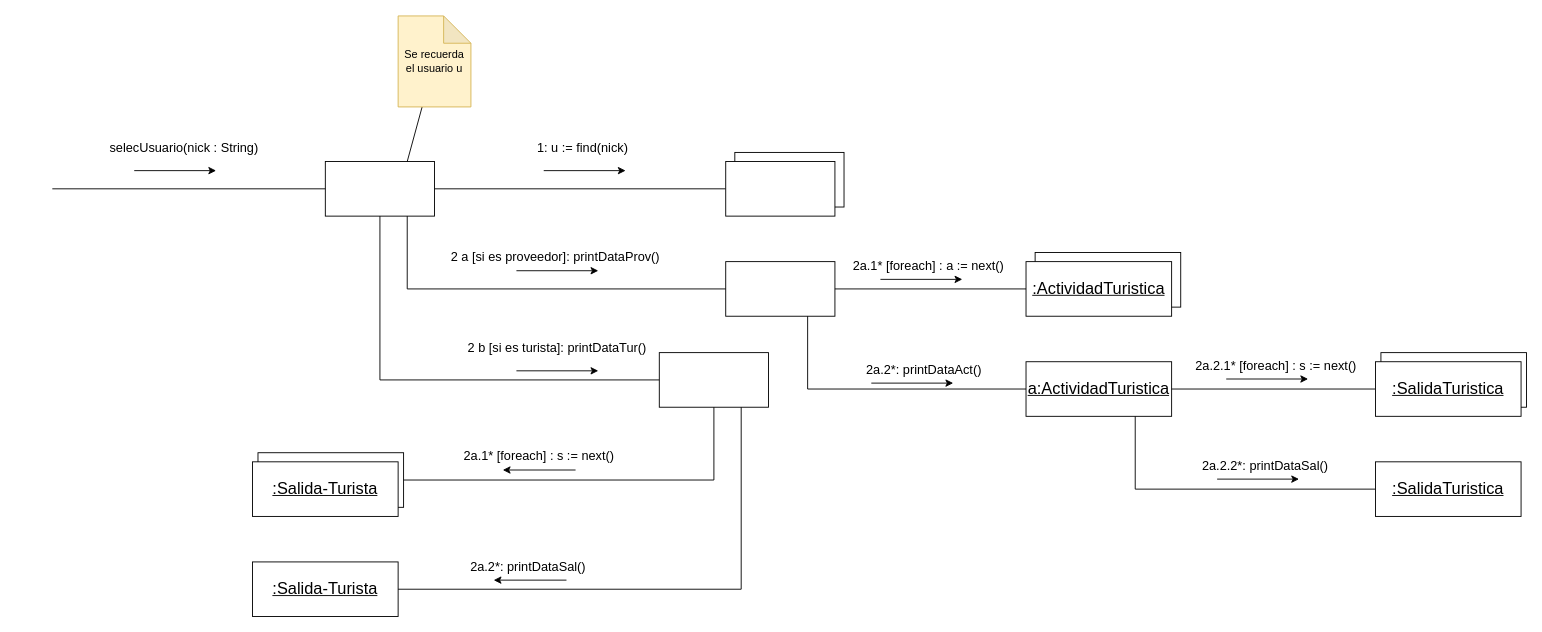
This 1542x632 diagram has some shape labels left out. The shapes that lost their labels are listed below. From the top down, each one's centre as x and y in pixels, then its label:
At point 379,188: ":Sistema".
At point 780,188: ":Usuario".
At point 780,288: "u:Proveedor".
At point 713,379: "u:Turista".
